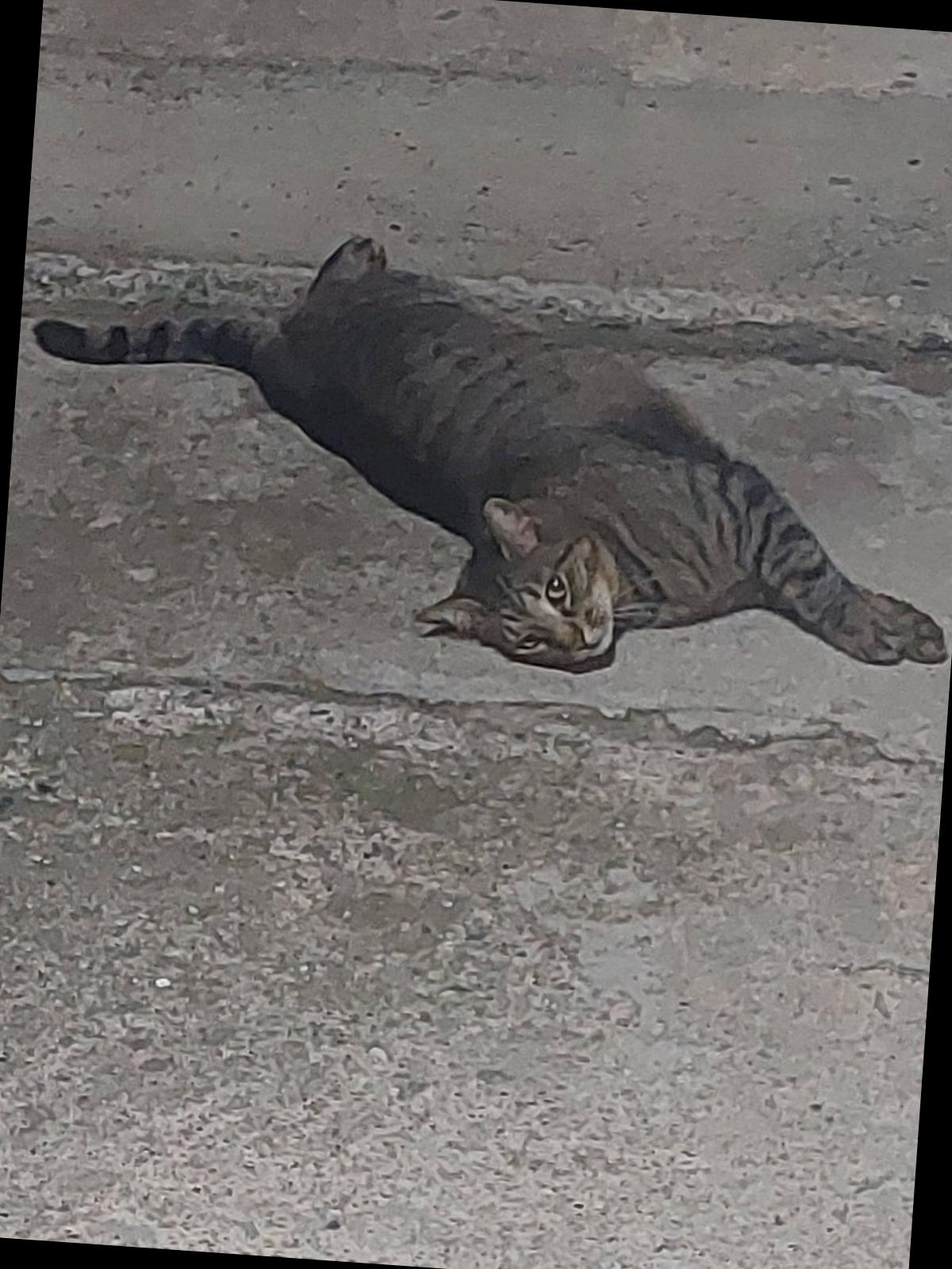macka: (10, 214, 952, 696)
